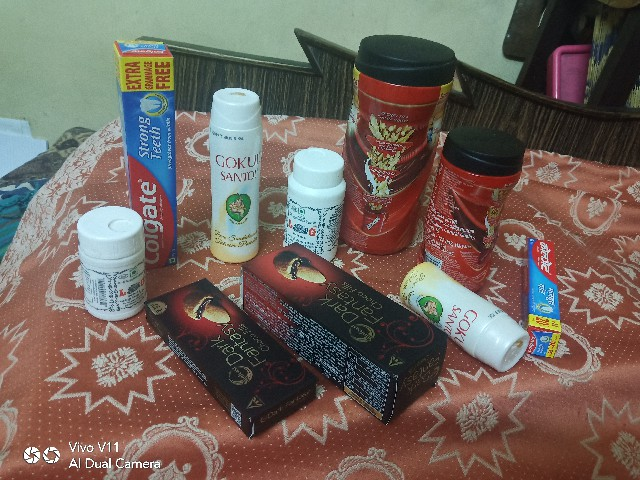boost big: (340, 31, 445, 251)
boost small: (415, 127, 526, 285)
colgatetoothpaste big: (110, 36, 184, 282)
colgatetoothpaste small: (523, 229, 566, 368)
darkfantasy big: (239, 221, 446, 426)
darkfantasy small: (141, 272, 312, 448)
gokulsantol big: (201, 79, 265, 263)
gokulsantol small: (401, 255, 525, 370)
lgasafoetidapowder large: (281, 134, 346, 263)
lgasafoetidapowder small: (75, 174, 149, 323)
